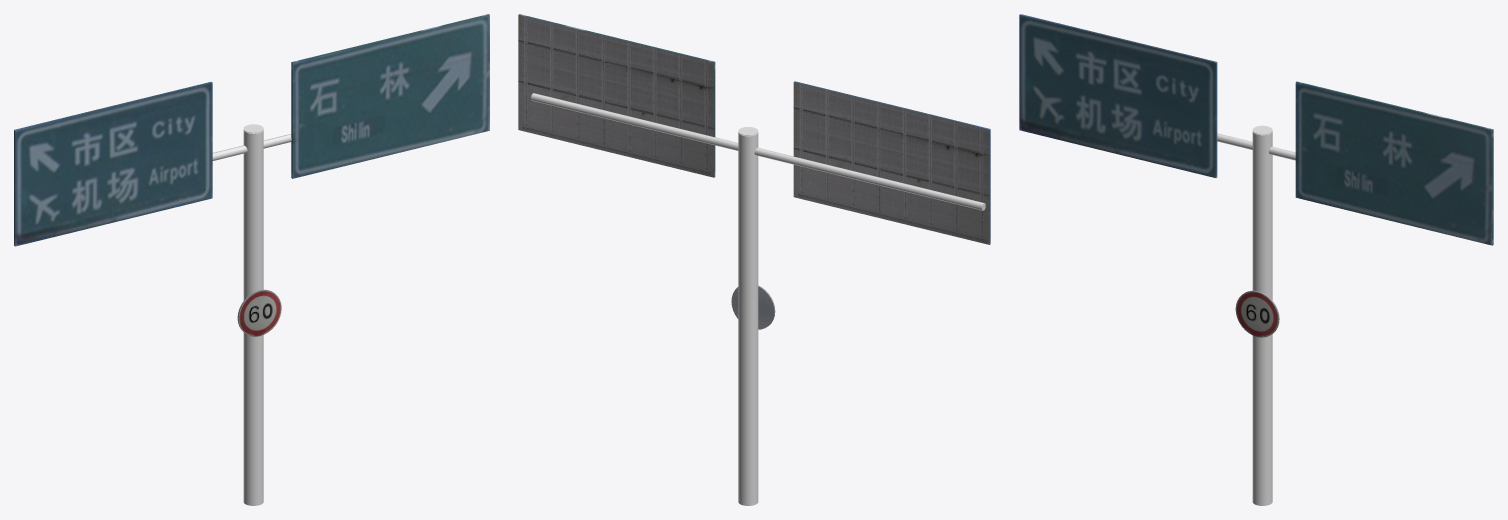
File: TSX000001_low.gltf
The picture shows the model from 3 angles, left to right: view 1: azimuth 30°, elevation 25°; view 2: azimuth 150°, elevation 25°; view 3: azimuth 330°, elevation 25°; orthographic projection.
Visible parts, largest first — view 1: TSX000001_low; view 2: TSX000001_low; view 3: TSX000001_low.
Part boxes in pixels (x1,y1,x2,y2): TSX000001_low: (14,14,489,505); TSX000001_low: (518,14,990,505); TSX000001_low: (1019,14,1493,505).
Size of the model in its own units: 8.66 by 7.53 by 0.349.
6 materials, 5 textured.
